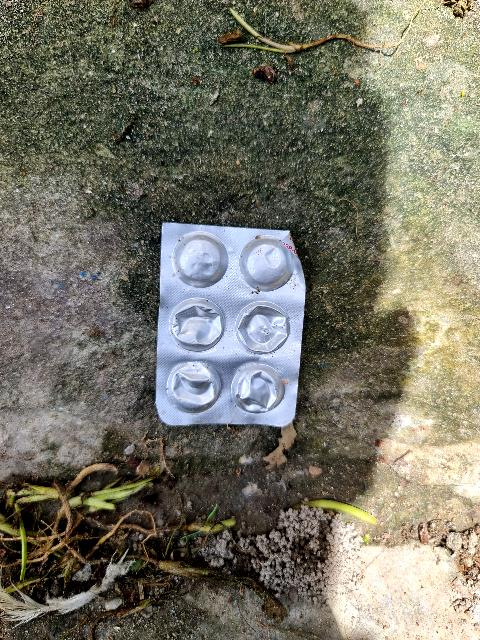medicine: (155, 210, 312, 434)
